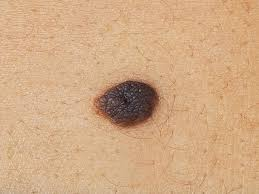tahilalat: (7, 8, 254, 193)
